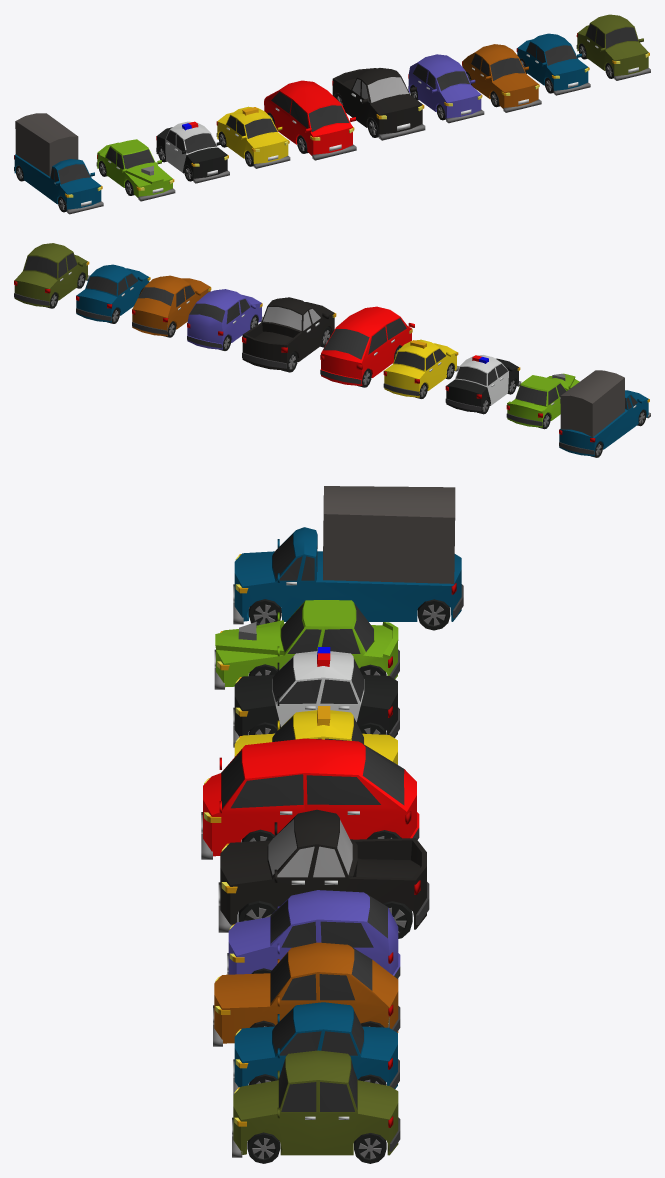
File: parkingjam.fbx
3 views of the same model, one above another, from view 1: azimuth 30°, elevation 25°; view 2: azimuth 150°, elevation 25°; view 3: azimuth 270°, elevation 25° (orthographic). The views are drawn at different scales.
Parts seen in each view (by area): view 1: Cube.073, Cube.041, Cube.033, Cube.025, Cube.017, Cube.002, Cube.057, Cube.049, Cube.009, Cube.065; view 2: Cube.073, Cube.041, Cube.033, Cube.002, Cube.025, Cube.017, Cube.057, Cube.049, Cube.009, Cube.065, Cylinder.004; view 3: Cube.073, Cube.041, Cube.033, Cube.002, Cube.017, Cube.025, Cube.057, Cube.065, Cube.009, Cube.049, Cylinder, Cylinder.009 (+1 smaller).
Part boxes in pixels (x1,y1,x2,y2): Cube.073: [14, 113, 101, 210]; Cube.041: [264, 80, 352, 155]; Cube.033: [332, 68, 422, 134]; Cube.025: [408, 54, 481, 118]; Cube.017: [462, 44, 538, 108]; Cube.002: [576, 14, 648, 75]; Cube.057: [156, 121, 227, 179]; Cube.049: [216, 106, 288, 163]; Cube.009: [517, 33, 588, 90]; Cube.065: [96, 139, 172, 197]; Cube.073: [559, 370, 648, 456]; Cube.041: [320, 306, 411, 385]; Cube.033: [242, 297, 334, 370]; Cube.002: [14, 243, 87, 307]; Cube.025: [187, 289, 261, 349]; Cube.017: [132, 275, 210, 336]; Cube.057: [445, 355, 518, 412]; Cube.049: [383, 339, 456, 397]; Cube.009: [76, 264, 149, 322]; Cube.065: [506, 373, 579, 427]; Cylinder.004: [282, 326, 331, 372]; Cube.073: [234, 486, 463, 621]; Cube.041: [203, 738, 419, 856]; Cube.033: [220, 809, 429, 929]; Cube.002: [233, 1050, 400, 1155]; Cube.017: [214, 942, 400, 1043]; Cube.025: [228, 890, 400, 979]; Cube.057: [234, 647, 399, 737]; Cube.065: [215, 600, 399, 687]; Cube.009: [234, 1002, 399, 1088]; Cube.049: [234, 706, 397, 764]; Cylinder: [247, 1132, 386, 1163]; Cylinder.009: [248, 599, 450, 630].
Bounding box in the file's own units: 3428 × 329 × 663.
Materials: 1 (1 with a texture image).
